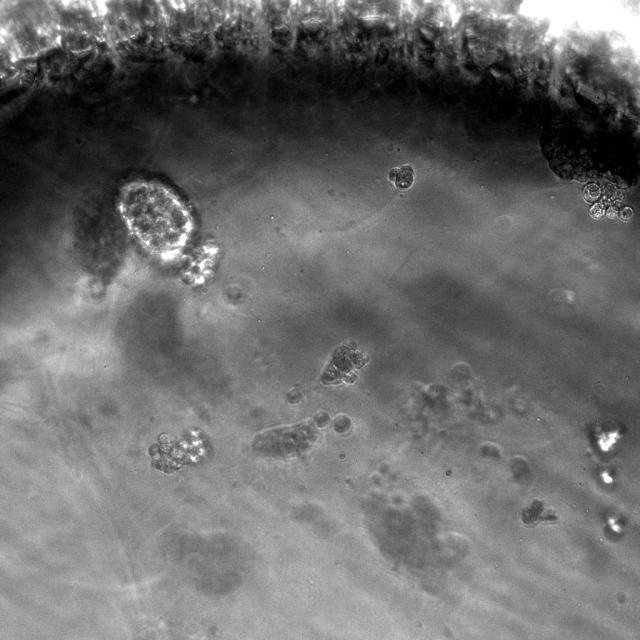organoid: (74, 172, 221, 286), (362, 492, 469, 594), (541, 124, 638, 221), (406, 361, 502, 423), (252, 410, 352, 458), (148, 430, 209, 473), (320, 340, 369, 386), (587, 420, 626, 460), (521, 498, 557, 526), (388, 165, 415, 190), (510, 455, 532, 484), (603, 514, 625, 540), (596, 465, 617, 490), (479, 441, 501, 457), (286, 386, 302, 404), (443, 468, 452, 478)
